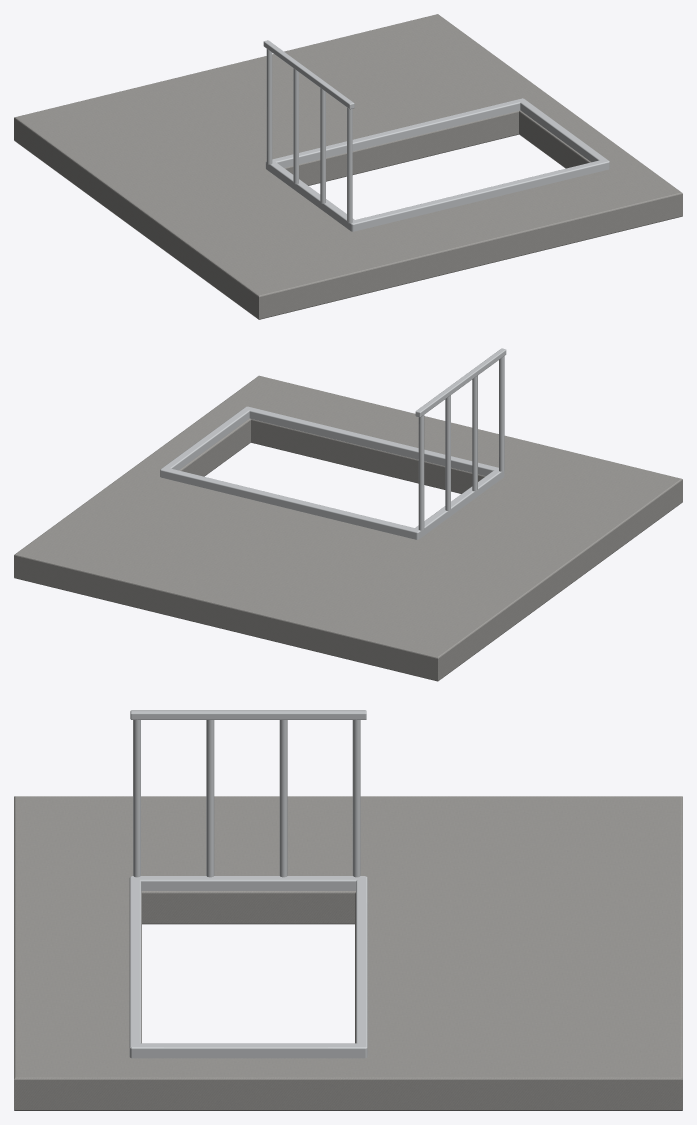
Rendered from battle-royale-town-and-airfield-floor-slab-stairwell-6e52c33a__28196.glb.
3 renders of one model, top to bottom at view 1: azimuth 30°, elevation 25°; view 2: azimuth 150°, elevation 25°; view 3: azimuth 270°, elevation 25°, orthographic. The views are drawn at different scales.
Visible parts, largest first — view 1: floor-slab-stairwell; view 2: floor-slab-stairwell; view 3: floor-slab-stairwell.
Boxes of the visible parts, x1,y1,x2,y2 form: floor-slab-stairwell: [14, 14, 682, 319]; floor-slab-stairwell: [14, 348, 682, 681]; floor-slab-stairwell: [14, 710, 682, 1110].
Size of the model in its own units: 4.02 by 1.38 by 4.02.
2 materials, 1 textured.
